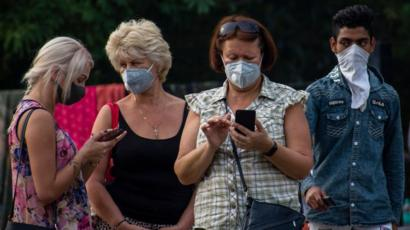with_mask: (217, 37, 268, 91), (109, 47, 165, 96), (46, 54, 94, 108), (334, 21, 376, 79)
